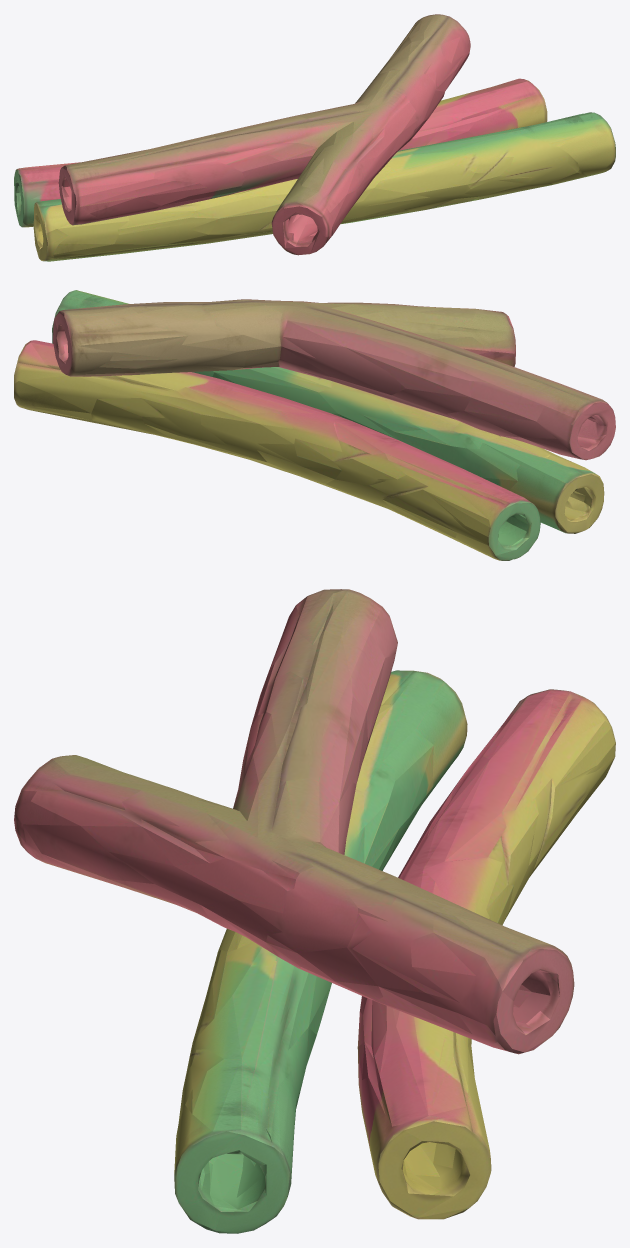
Rendered from tubi_galleggianti.glb.
The picture shows the model from 3 angles, top to bottom: view 1: azimuth 30°, elevation 25°; view 2: azimuth 150°, elevation 25°; view 3: azimuth 270°, elevation 25°; orthographic projection. The views are drawn at different scales.
Parts seen in each view (by area): view 1: Mesh_0; view 2: Mesh_0; view 3: Mesh_0.
Part boxes in pixels (x1,y1,x2,y2): Mesh_0: [14, 14, 615, 261]; Mesh_0: [14, 290, 615, 560]; Mesh_0: [14, 589, 615, 1233].
Bounding box in the file's own units: 1.9 × 0.4069 × 1.02.
1 material, 1 textured.
